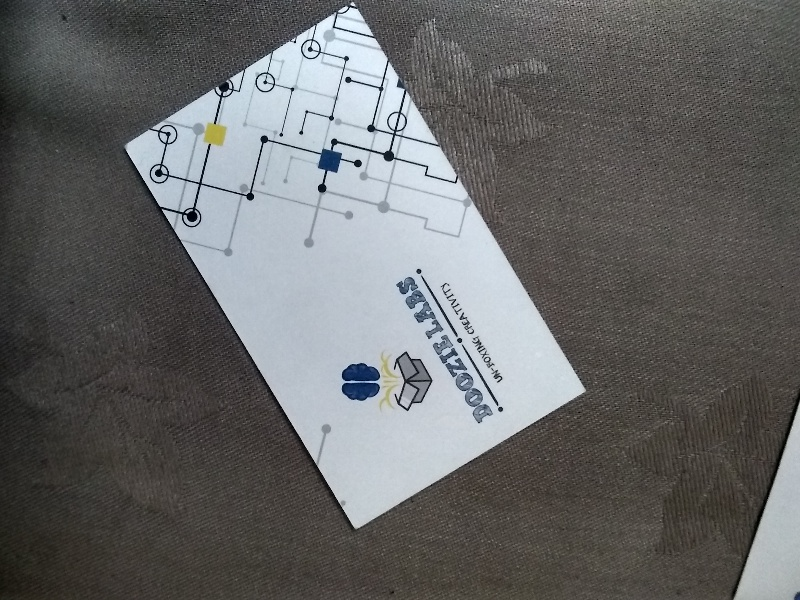back: (120, 4, 589, 532)
